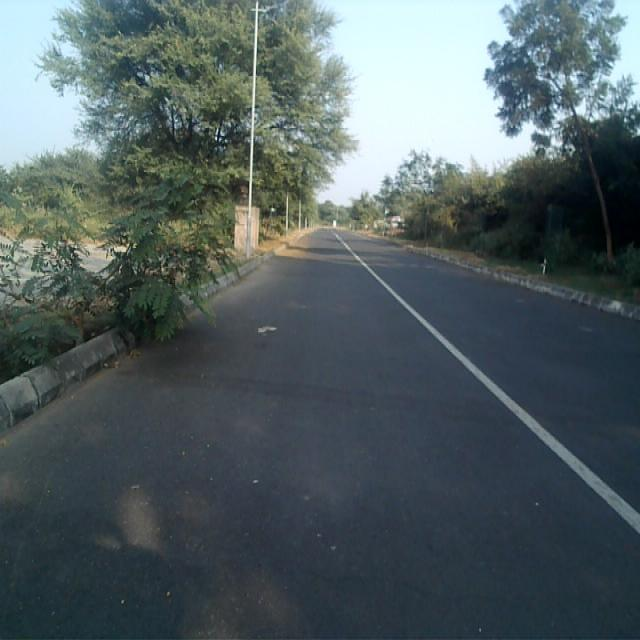lane: (0, 232, 640, 640)
